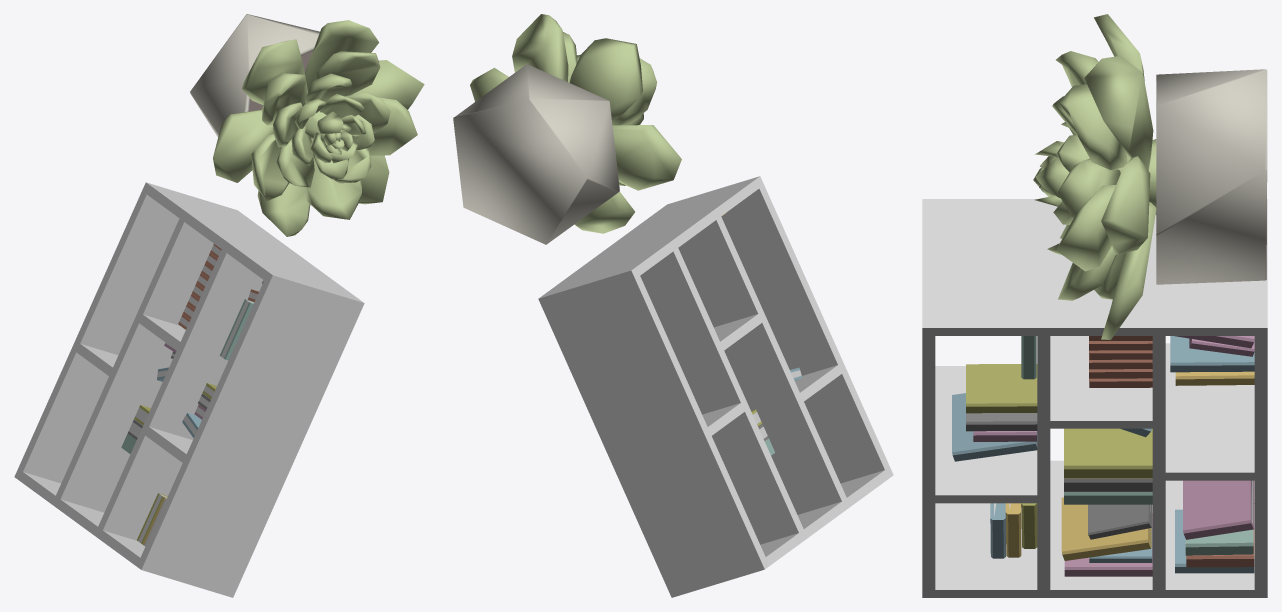
The picture shows the model from 3 angles, left to right: view 1: azimuth 30°, elevation 25°; view 2: azimuth 150°, elevation 25°; view 3: azimuth 270°, elevation 25°; orthographic projection. The views are drawn at different scales.
Visible parts, largest first — view 1: LOD 1_7253576427712057226_9f73f2b44b4d1f845949e963dff5a984; view 2: LOD 1_7253576427712057226_9f73f2b44b4d1f845949e963dff5a984; view 3: LOD 1_7253576427712057226_9f73f2b44b4d1f845949e963dff5a984.
Boxes of the visible parts, box(x1,y1,x2,y2) form: LOD 1_7253576427712057226_9f73f2b44b4d1f845949e963dff5a984: box(14, 14, 424, 597); LOD 1_7253576427712057226_9f73f2b44b4d1f845949e963dff5a984: box(453, 14, 893, 597); LOD 1_7253576427712057226_9f73f2b44b4d1f845949e963dff5a984: box(922, 14, 1267, 597).
Size of the model in its own units: 0.013 by 0.0173 by 0.00819.
